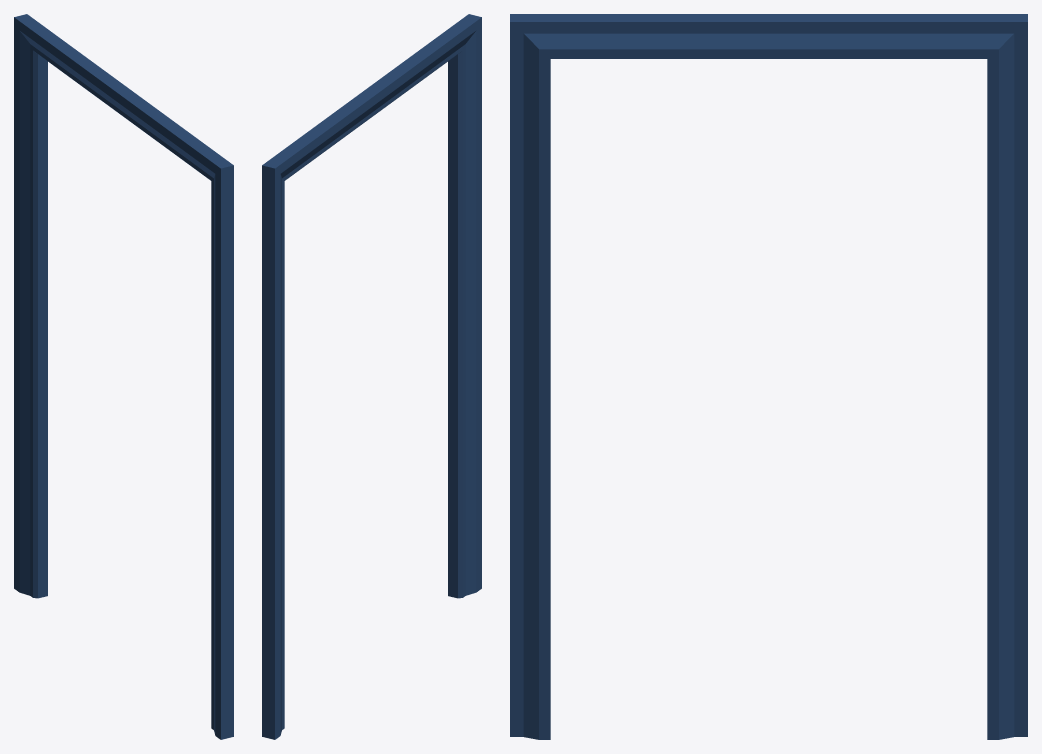
Rendered from doorjamb.fbx.
The picture shows the model from 3 angles, left to right: view 1: azimuth 30°, elevation 25°; view 2: azimuth 150°, elevation 25°; view 3: azimuth 270°, elevation 25°; orthographic projection. The views are drawn at different scales.
Parts seen in each view (by area): view 1: doorjamb; view 2: doorjamb; view 3: doorjamb.
Part boxes in pixels (left/top/right/bottom): doorjamb: left=14, top=14, right=233, bottom=739; doorjamb: left=262, top=14, right=481, bottom=739; doorjamb: left=510, top=14, right=1027, bottom=739.
Size of the model in its own units: 0.0611 by 1.88 by 1.23.
